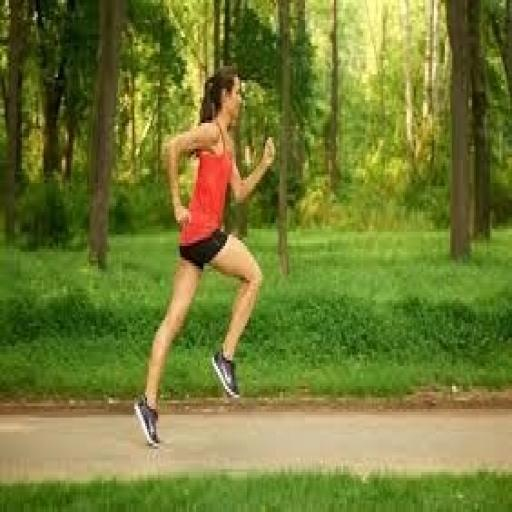running: (130, 63, 280, 449)
